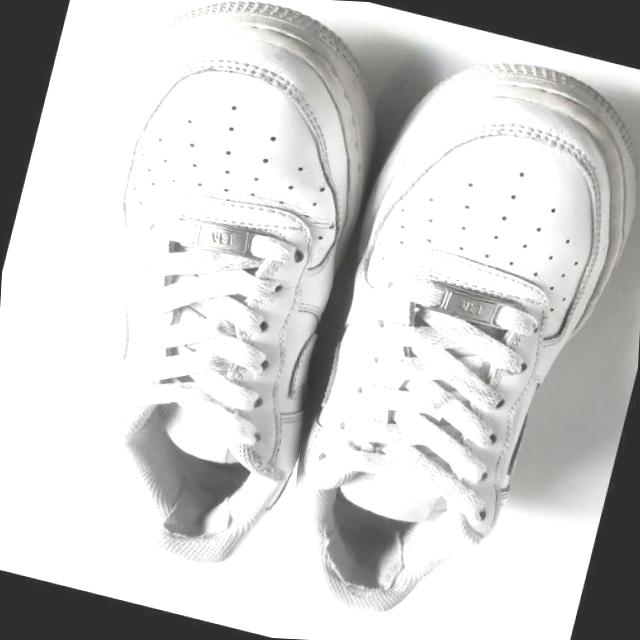nike_fake_airforce: (267, 19, 640, 640), (19, 0, 403, 585)
